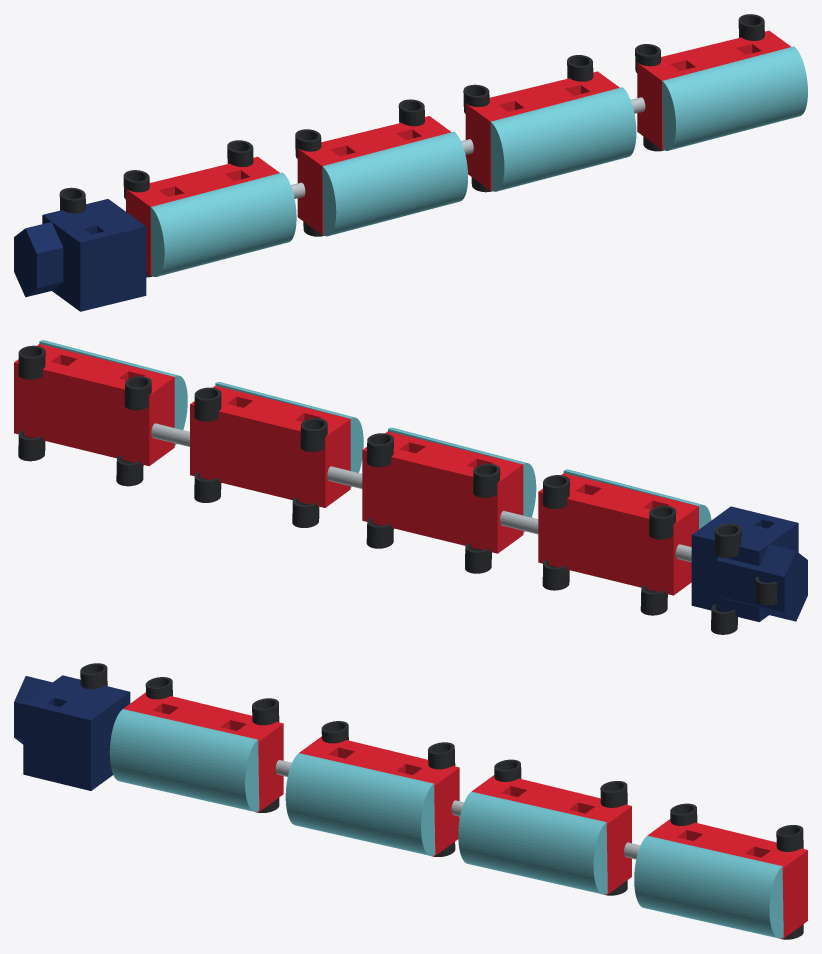
File: tinker.obj
3 views of the same model, one above another, from view 1: azimuth 30°, elevation 25°; view 2: azimuth 150°, elevation 25°; view 3: azimuth 330°, elevation 25° (orthographic). The views are drawn at different scales.
Parts seen in each view (by area): view 1: group_0_7720667, group_0_15277357, group_0_1650274, group_0_2829873, group_0_12568524; view 2: group_0_15277357, group_0_2829873, group_0_1650274, group_0_7720667, group_0_12568524; view 3: group_0_7720667, group_0_15277357, group_0_1650274, group_0_2829873, group_0_12568524.
Part boxes in pixels (bbox=[...]): group_0_7720667: bbox=[150, 46, 807, 276]; group_0_15277357: bbox=[126, 30, 791, 275]; group_0_1650274: bbox=[14, 199, 146, 311]; group_0_2829873: bbox=[59, 14, 764, 277]; group_0_12568524: bbox=[291, 97, 645, 198]; group_0_15277357: bbox=[14, 344, 698, 595]; group_0_2829873: bbox=[18, 345, 777, 634]; group_0_1650274: bbox=[691, 506, 807, 622]; group_0_7720667: bbox=[39, 340, 711, 533]; group_0_12568524: bbox=[151, 423, 691, 562]; group_0_7720667: bbox=[109, 709, 783, 938]; group_0_15277357: bbox=[123, 692, 807, 939]; group_0_1650274: bbox=[14, 675, 130, 790]; group_0_2829873: bbox=[80, 663, 803, 939]; group_0_12568524: bbox=[275, 760, 640, 859].
Bounding box in the file's own units: 229 × 30.93 × 24.
